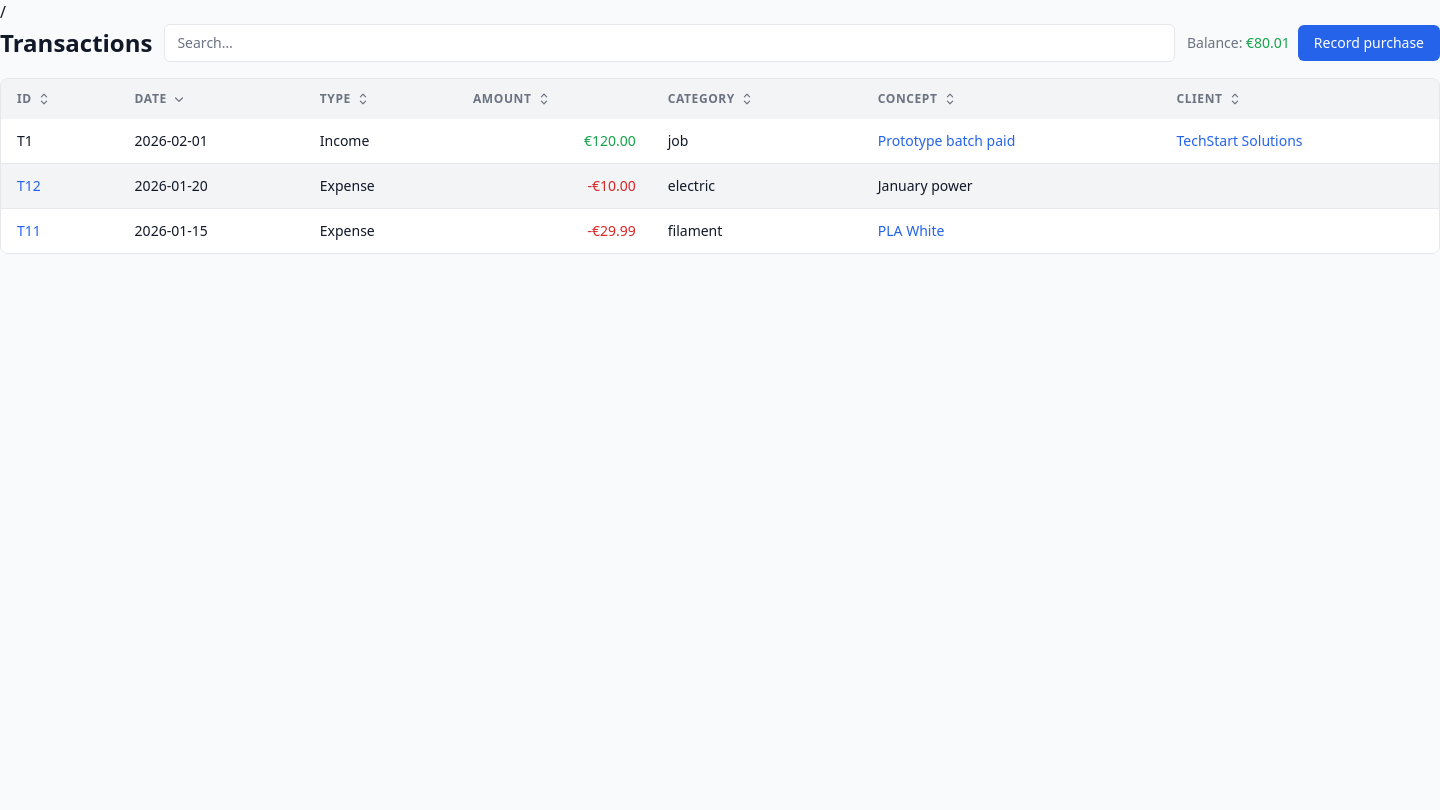
Test: TransactionsPage › record purchase › opens the dialog and closes it again
The image size is (1440, 810).
Step 1. Click the button with test id "transactions-record-purchase" → (1369,43), box [1298,25,1439,61]
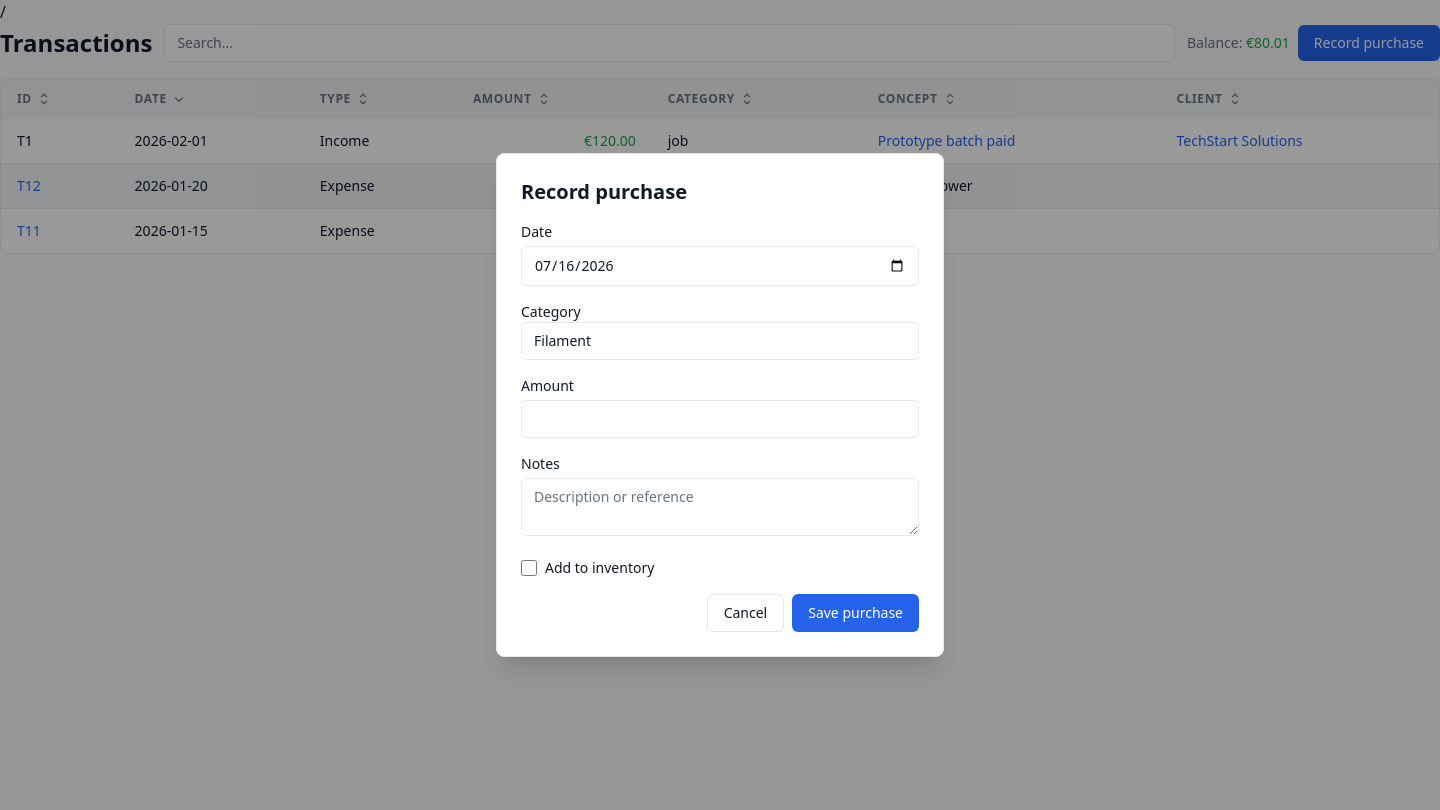
Expected: the element with test id "purchase-dialog" is shown, [521,178,919,632]
Step 2. Click the button "Cancel" → (745,613), box [707,594,784,632]
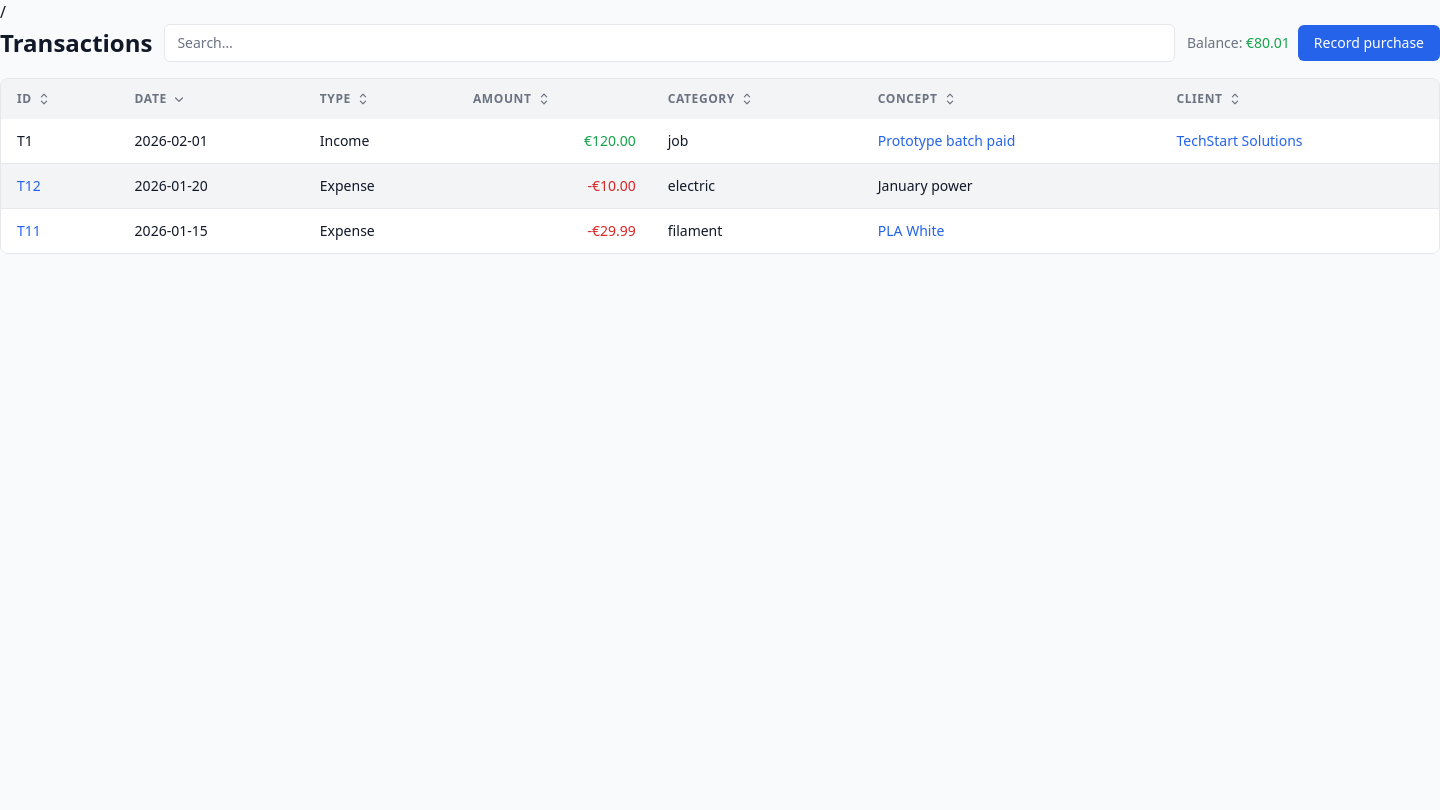
Expected: the element with test id "purchase-dialog" is gone
